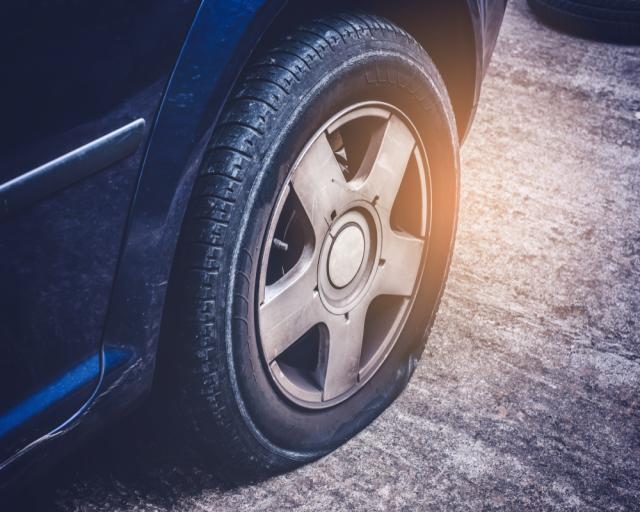tire flat: (160, 13, 461, 470)
